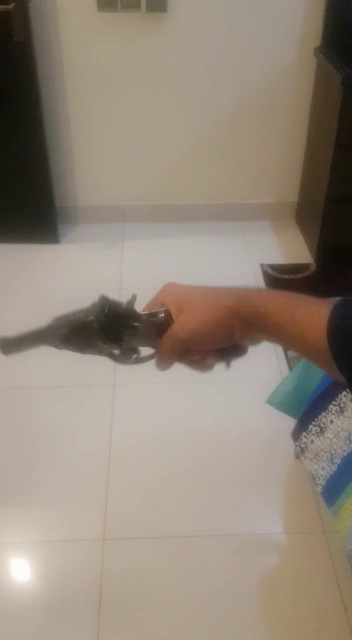handgun: (1, 285, 249, 403)
